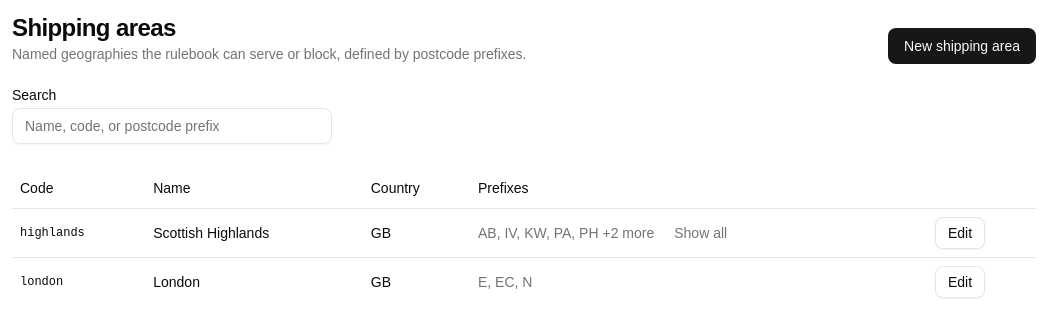
it: ShippingAreasPage › lists areas with a prefix preview that expands to the full set
Expected: the text "Scottish Highlands" is shown, [145, 208, 363, 257]
Expected: the text "AB, IV, KW, PA, PH +2 more" is shown, [478, 222, 654, 242]
Click the button with aria-label "show all 7 prefixes" at {"x": 701, "y": 232}, box [662, 216, 739, 248]
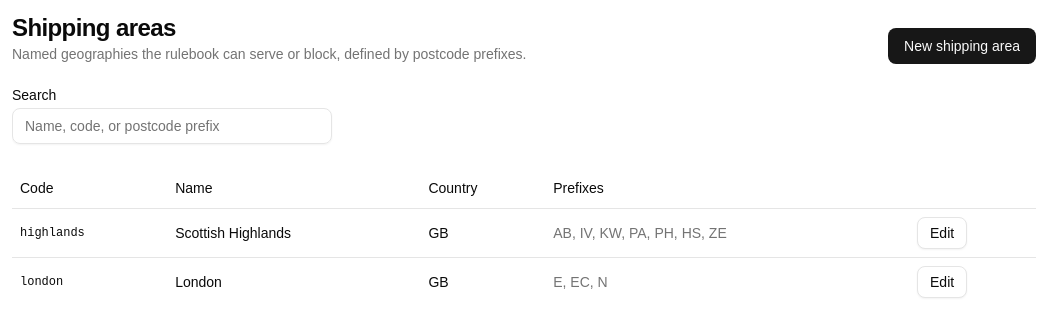
Now the text "AB, IV, KW, PA, PH, HS, ZE" is shown, box [553, 224, 727, 240]
